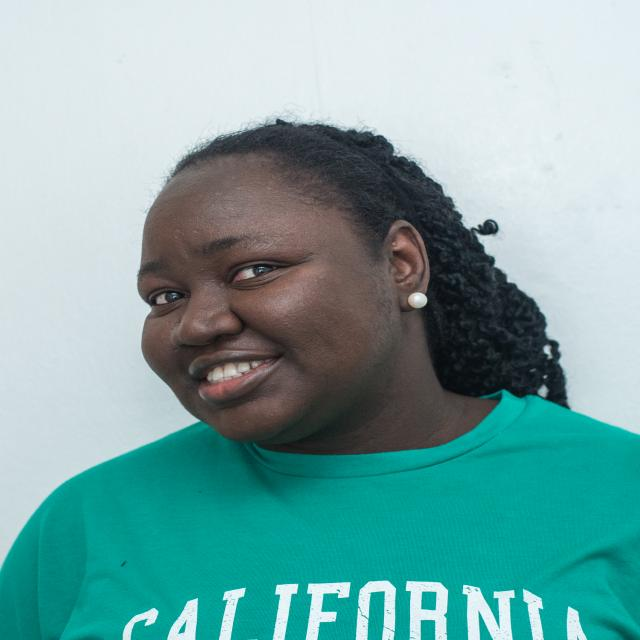happy: (127, 150, 410, 447)
